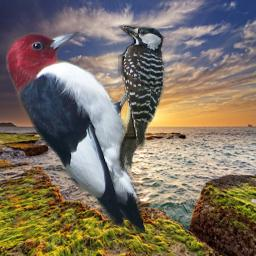Woodpecker: (5, 29, 161, 233), (116, 22, 168, 171)
